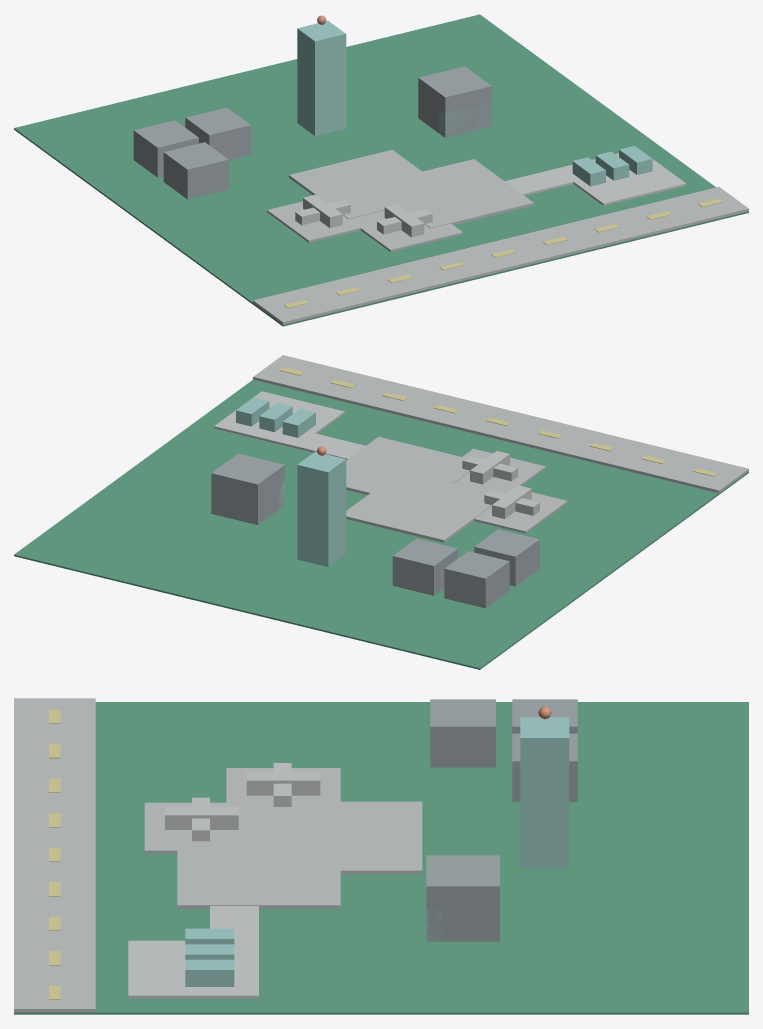
The model's file is stage_11.glb.
3 views of the same model, one above another, from view 1: azimuth 30°, elevation 25°; view 2: azimuth 150°, elevation 25°; view 3: azimuth 270°, elevation 25° (orthographic). The views are drawn at different scales.
Visible parts, largest first — view 1: geometry_0; view 2: geometry_0; view 3: geometry_0.
Boxes of the visible parts, x1=… form: geometry_0: x1=14, y1=14, x2=748, y2=326; geometry_0: x1=14, y1=355, x2=748, y2=669; geometry_0: x1=14, y1=698, x2=748, y2=1014.
Bounding box in the file's own units: 9 × 2.06 × 9.
